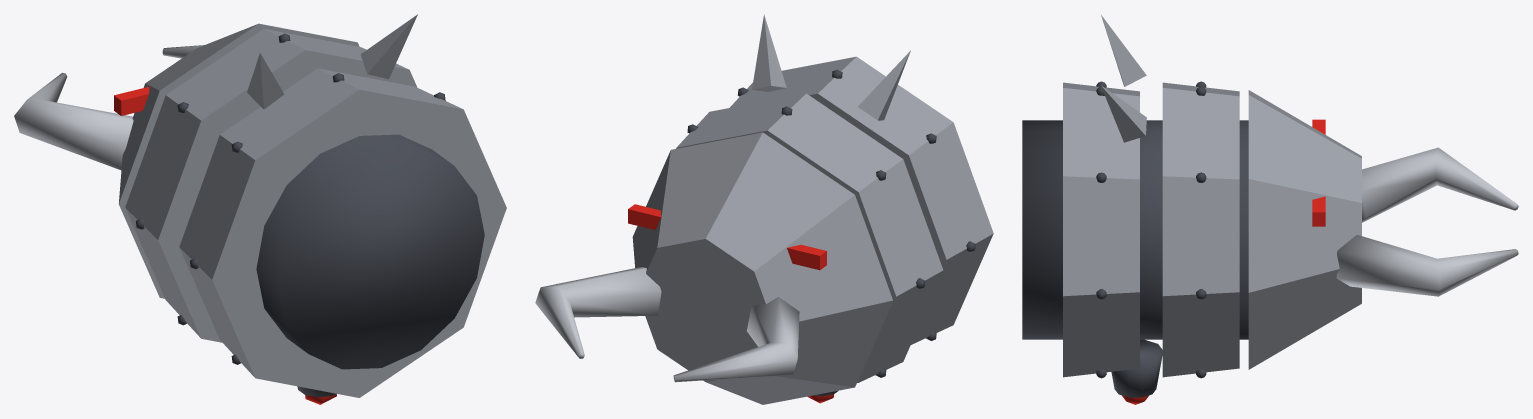
The model's file is the_destroyer_head.glb.
The picture shows the model from 3 angles, left to right: view 1: azimuth 30°, elevation 25°; view 2: azimuth 150°, elevation 25°; view 3: azimuth 270°, elevation 25°; orthographic projection. The views are drawn at different scales.
Parts seen in each view (by area): view 1: serpent_head; view 2: serpent_head; view 3: serpent_head.
Boxes of the visible parts, x1=… form: serpent_head: x1=14, y1=14, x2=506, y2=404; serpent_head: x1=535, y1=14, x2=993, y2=404; serpent_head: x1=1022, y1=15, x2=1518, y2=404.
Bounding box in the file's own units: 1.81 × 2.25 × 2.85.
